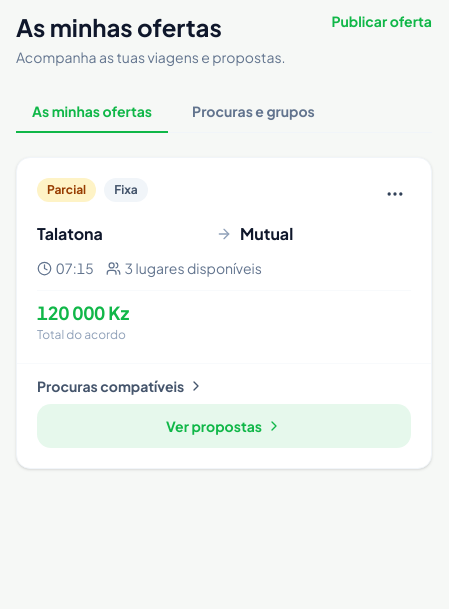
Test: DriverDashboard — marketplace › com toggle só compatíveis e zero matches: empty state filtrado
The image size is (449, 609).
Expected: the text "Talatona" is shown, [37, 223, 103, 244]
Click the tab "Procuras e grupos" at (254, 112), box [176, 91, 331, 133]
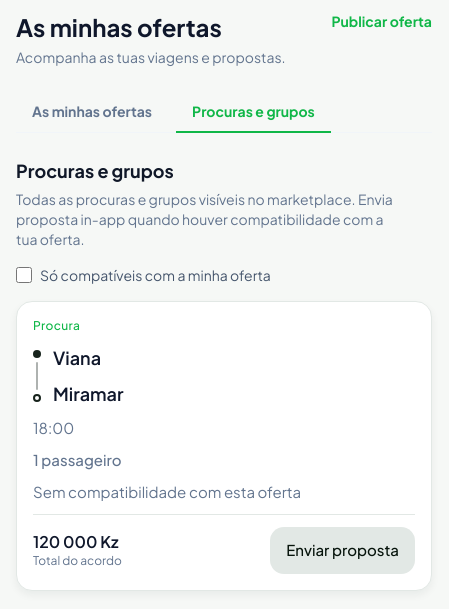
Now the text "Viana" is shown, box [53, 346, 101, 369]
Click the checkbox with test id "driver-procuras-só-compatíveis" at (24, 275), box [16, 267, 32, 283]
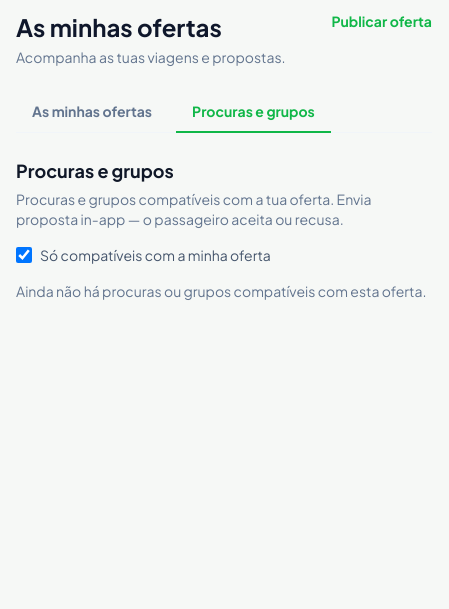
Now the text "Ainda não há procuras ou grupos compatíveis com esta oferta." is shown, box [16, 281, 432, 301]
Now the button "Enviar proposta" is gone
